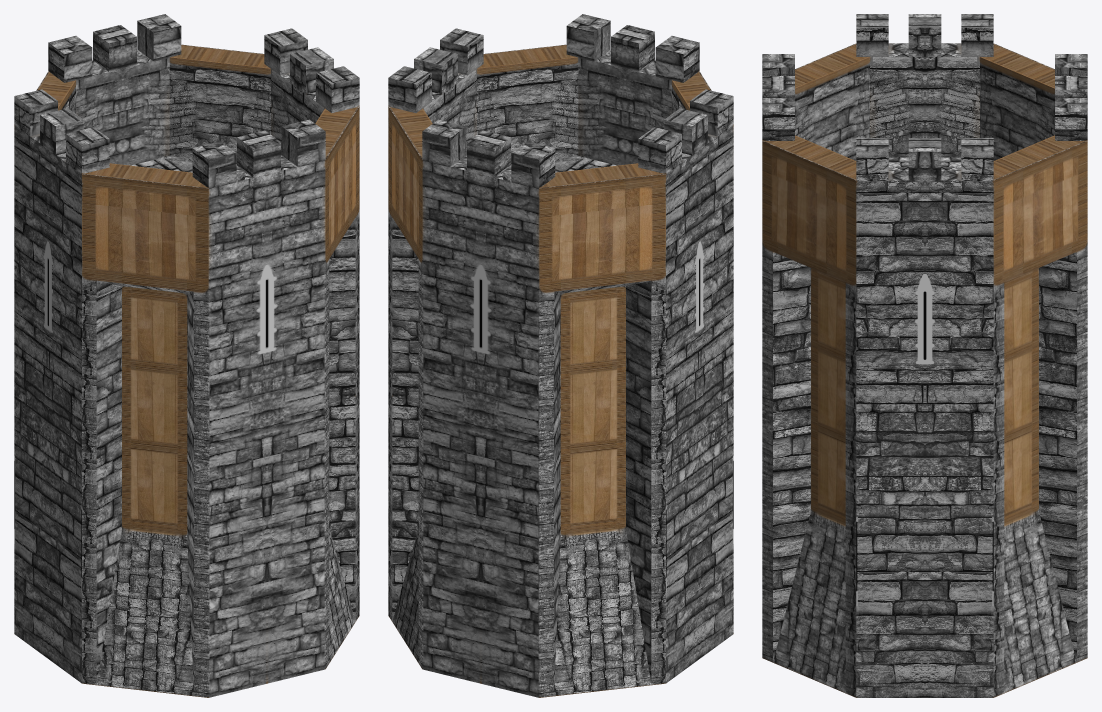
Rendered from watch-tower-body.fbx.
The picture shows the model from 3 angles, left to right: view 1: azimuth 30°, elevation 25°; view 2: azimuth 150°, elevation 25°; view 3: azimuth 270°, elevation 25°; orthographic projection.
Parts seen in each view (by area): view 1: watch-tower-body; view 2: watch-tower-body; view 3: watch-tower-body.
Part boxes in pixels (x1,y1,x2,y2): watch-tower-body: [14, 14, 359, 697]; watch-tower-body: [388, 14, 733, 697]; watch-tower-body: [762, 14, 1087, 697].
Bounding box in the file's own units: 601 × 1112 × 600.
Materials: 1 (1 with a texture image).
